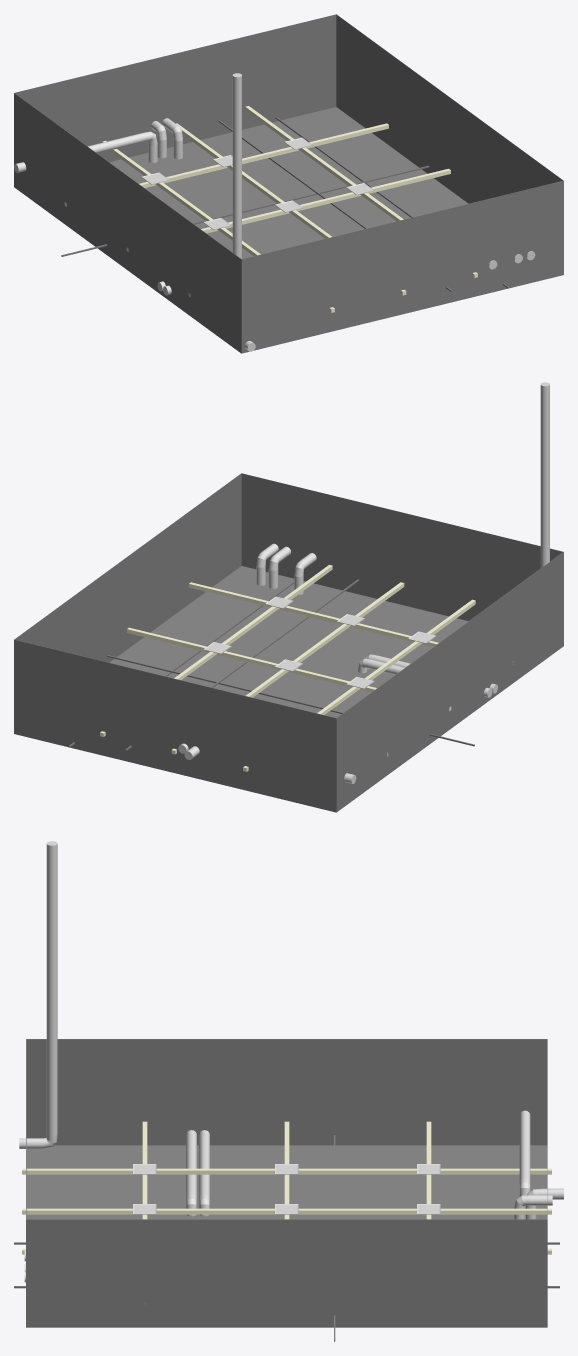
The model's file is Tetto v2.fbx.
3 views of the same model, one above another, from view 1: azimuth 30°, elevation 25°; view 2: azimuth 150°, elevation 25°; view 3: azimuth 270°, elevation 25° (orthographic). The views are drawn at different scales.
Parts seen in each view (by area): view 1: Tetto, Tubo.006, Trave.003, Trave.001, Lampade, Trave.006, Trave.005, Tubo.009, Trave.004, Trave piccola.003, Tubo.007, Trave piccola.001; view 2: Tetto, Tubo.006, Trave.001, Trave.002, Lampade, Trave.005, Trave.004, Trave.006, Trave piccola.003; view 3: Tetto, Tubo.006, Trave.005, Trave.004, Lampade, Tubo.009, Tubo.004, Tubo.005.
Boxes of the visible parts, <box> form: Tetto: <box>14,14,563,353</box>; Tubo.006: <box>232,73,255,351</box>; Trave.003: <box>64,123,388,206</box>; Trave.001: <box>126,168,450,251</box>; Lampade: <box>141,137,374,229</box>; Trave.006: <box>245,106,477,277</box>; Trave.005: <box>176,123,406,295</box>; Tubo.009: <box>14,131,157,172</box>; Trave.004: <box>102,140,334,312</box>; Trave piccola.003: <box>61,165,429,256</box>; Tubo.007: <box>162,118,182,159</box>; Trave piccola.001: <box>218,120,452,291</box>; Tetto: <box>14,473,563,812</box>; Tubo.006: <box>540,382,549,567</box>; Trave.001: <box>127,627,451,710</box>; Trave.002: <box>189,582,513,664</box>; Lampade: <box>203,596,436,688</box>; Trave.005: <box>171,582,404,754</box>; Trave.004: <box>243,599,475,771</box>; Trave.006: <box>100,565,332,736</box>; Trave piccola.003: <box>107,655,474,746</box>; Tetto: <box>26,1039,547,1327</box>; Tubo.006: <box>19,841,57,1148</box>; Trave.005: <box>22,1208,551,1214</box>; Trave.004: <box>22,1168,551,1174</box>; Lampade: <box>133,1164,440,1214</box>; Tubo.009: <box>519,1110,530,1218</box>; Tubo.004: <box>186,1130,196,1216</box>; Tubo.005: <box>199,1130,209,1216</box>.
Size of the model in its own units: 1153 by 758 by 1162.
